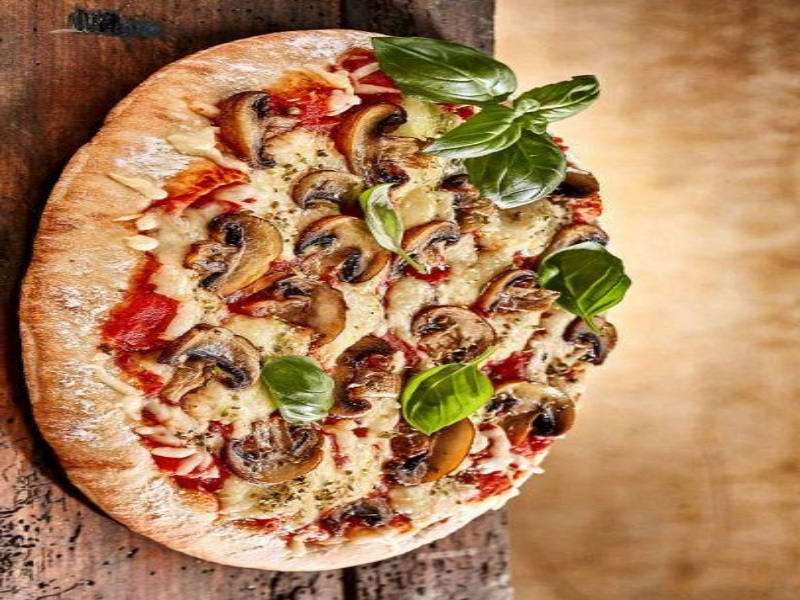champignon: (188, 212, 288, 308), (224, 407, 329, 487), (294, 212, 397, 291), (408, 295, 497, 363)
